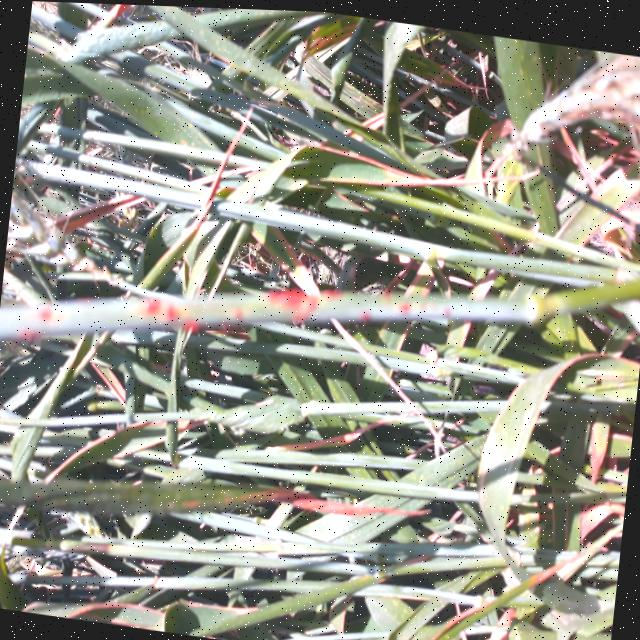black_stem_rust: (0, 184, 559, 446)
